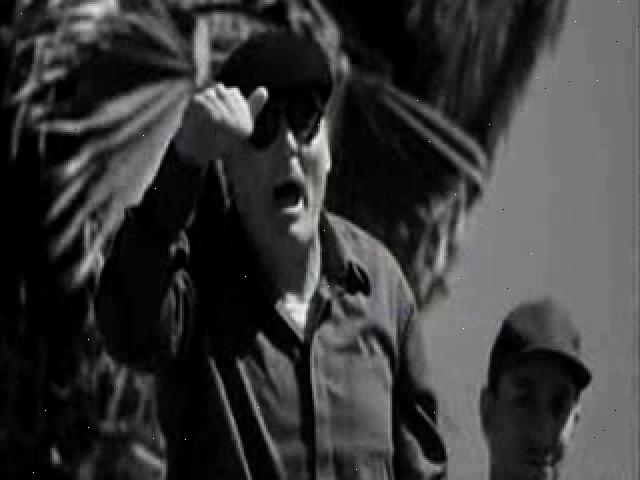T: (99, 29, 446, 480)
